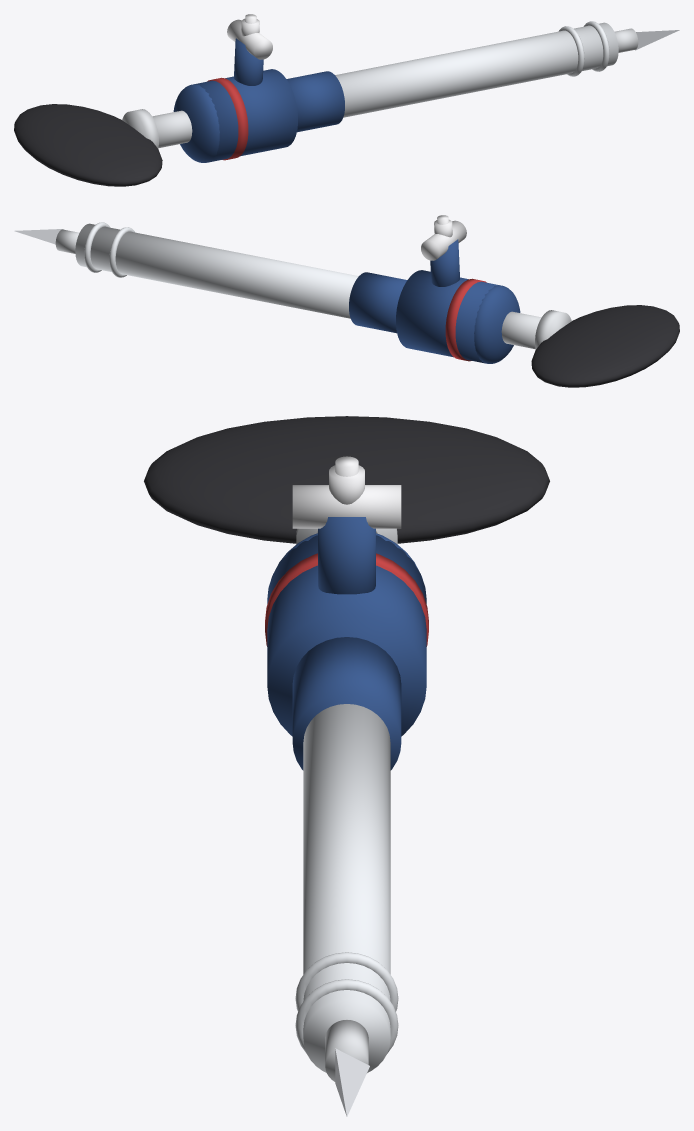
Rendered from Trocar.fbx.
3 renders of one model, top to bottom at view 1: azimuth 30°, elevation 25°; view 2: azimuth 150°, elevation 25°; view 3: azimuth 270°, elevation 25°, orthographic. The views are drawn at different scales.
Visible parts, largest first — view 1: Trocar_Cannula, Trocar_PaddleHandle, Trocar_ValveBody, Trocar_Collar, Trocar_ValveCap, Trocar_ObturatorNeck, Trocar_StopcockArm, Trocar_AccentBand, Trocar_StopcockTap, Trocar_NeckFlange, Trocar_ObturatorShaft, Trocar_Thread2 (+2 smaller); view 2: Trocar_Cannula, Trocar_PaddleHandle, Trocar_ValveBody, Trocar_Collar, Trocar_ValveCap, Trocar_ObturatorNeck, Trocar_StopcockArm, Trocar_AccentBand, Trocar_StopcockTap, Trocar_NeckFlange, Trocar_ObturatorShaft, Trocar_Thread2 (+2 smaller); view 3: Trocar_PaddleHandle, Trocar_Cannula, Trocar_ValveBody, Trocar_Collar, Trocar_StopcockArm, Trocar_StopcockTap, Trocar_Thread2, Trocar_ObturatorShaft, Trocar_AccentBand, Trocar_Thread1, Trocar_PyramidTip, Trocar_LuerTip.
Boxes of the visible parts, x1,y1,x2,y2 form: Trocar_Cannula: [335, 22, 618, 117]; Trocar_PaddleHandle: [14, 104, 162, 186]; Trocar_ValveBody: [194, 69, 297, 162]; Trocar_Collar: [286, 71, 344, 132]; Trocar_ValveCap: [173, 84, 219, 162]; Trocar_ObturatorNeck: [152, 110, 192, 148]; Trocar_StopcockArm: [234, 38, 263, 85]; Trocar_AccentBand: [207, 77, 248, 160]; Trocar_StopcockTap: [227, 19, 272, 59]; Trocar_NeckFlange: [122, 109, 158, 148]; Trocar_ObturatorShaft: [614, 28, 638, 52]; Trocar_Thread2: [584, 21, 609, 71]; Trocar_Cannula: [75, 223, 358, 318]; Trocar_PaddleHandle: [531, 305, 679, 387]; Trocar_ValveBody: [396, 270, 499, 363]; Trocar_Collar: [349, 272, 407, 333]; Trocar_ValveCap: [474, 285, 520, 363]; Trocar_ObturatorNeck: [501, 311, 541, 349]; Trocar_StopcockArm: [430, 239, 459, 286]; Trocar_AccentBand: [445, 278, 486, 361]; Trocar_StopcockTap: [421, 220, 466, 260]; Trocar_NeckFlange: [535, 310, 571, 349]; Trocar_ObturatorShaft: [55, 229, 79, 253]; Trocar_Thread2: [84, 222, 109, 272]; Trocar_PaddleHandle: [144, 416, 549, 543]; Trocar_Cannula: [303, 704, 390, 1072]; Trocar_ValveBody: [267, 535, 426, 736]; Trocar_Collar: [292, 637, 401, 770]; Trocar_StopcockArm: [318, 517, 375, 594]; Trocar_StopcockTap: [292, 485, 401, 528]; Trocar_Thread2: [295, 979, 398, 1053]; Trocar_ObturatorShaft: [325, 1020, 368, 1081]; Trocar_AccentBand: [265, 553, 428, 646]; Trocar_Thread1: [295, 952, 398, 1011]; Trocar_PyramidTip: [335, 1048, 369, 1116]; Trocar_LuerTip: [329, 465, 364, 504].
Bounding box in the file's own units: 20.56 × 4.18 × 5.6.
